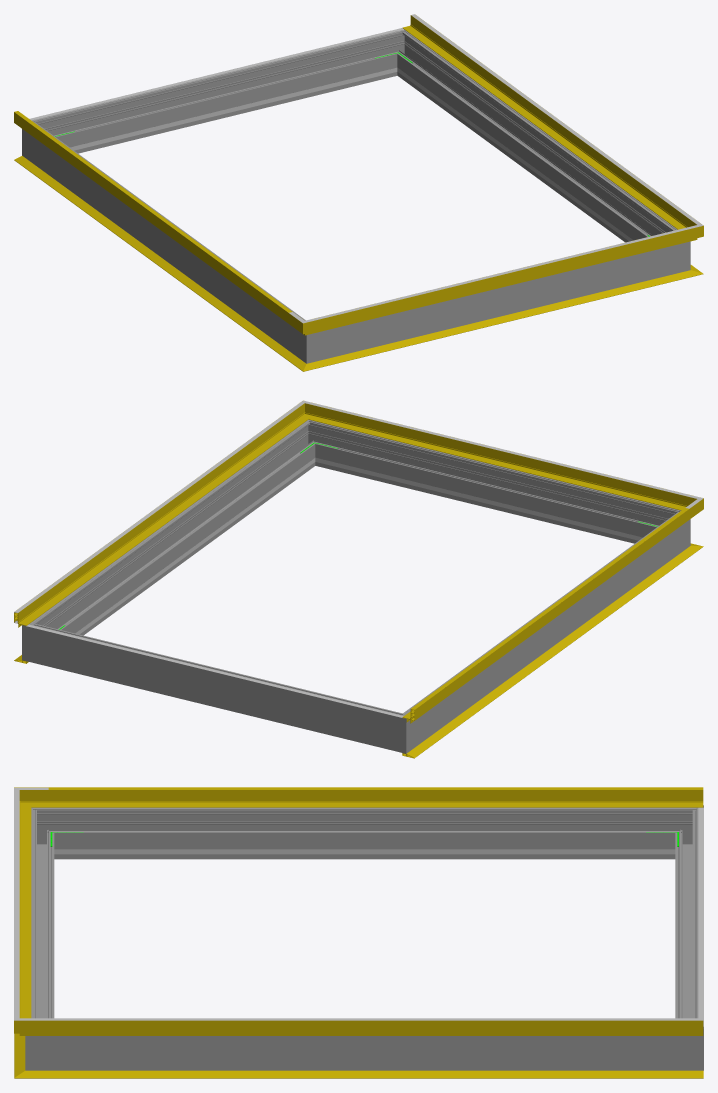
The picture shows the model from 3 angles, top to bottom: view 1: azimuth 30°, elevation 25°; view 2: azimuth 150°, elevation 25°; view 3: azimuth 270°, elevation 25°; orthographic projection. The views are drawn at different scales.
Visible parts, largest first — view 1: 3DGeom-276, 3DGeom-297, 3DGeom-298, 3DGeom-268, 3DGeom-58, 3DGeom-56, 3DGeom-50, 3DGeom-38, 3DGeom-28, 3DGeom-244, 3DGeom-64, 3DGeom-71 (+7 smaller); view 2: 3DGeom-298, 3DGeom-276, 3DGeom-297, 3DGeom-268, 3DGeom-56, 3DGeom-58, 3DGeom-50, 3DGeom-38, 3DGeom-239, 3DGeom-278, 3DGeom-71, 3DGeom-64 (+6 smaller); view 3: 3DGeom-268, 3DGeom-297, 3DGeom-50, 3DGeom-58, 3DGeom-30, 3DGeom-276, 3DGeom-298, 3DGeom-232, 3DGeom-56, 3DGeom-64, 3DGeom-71, 3DGeom-220 (+7 smaller).
Boxes of the visible parts, <box> form: 3DGeom-276: <box>49,35,393,153</box>; 3DGeom-297: <box>400,38,671,242</box>; 3DGeom-298: <box>331,247,665,357</box>; 3DGeom-268: <box>36,129,299,352</box>; 3DGeom-58: <box>402,15,685,228</box>; 3DGeom-56: <box>325,232,678,330</box>; 3DGeom-50: <box>14,112,288,323</box>; 3DGeom-38: <box>14,156,296,360</box>; 3DGeom-28: <box>324,274,678,365</box>; 3DGeom-244: <box>79,73,373,149</box>; 3DGeom-64: <box>411,14,688,215</box>; 3DGeom-71: <box>14,111,292,312</box>; 3DGeom-298: <box>319,425,663,543</box>; 3DGeom-276: <box>47,628,385,747</box>; 3DGeom-297: <box>40,428,312,635</box>; 3DGeom-268: <box>413,519,676,742</box>; 3DGeom-56: <box>321,408,676,508</box>; 3DGeom-58: <box>14,412,300,627</box>; 3DGeom-50: <box>402,509,689,723</box>; 3DGeom-38: <box>402,553,688,758</box>; 3DGeom-239: <box>339,463,633,539</box>; 3DGeom-278: <box>381,706,420,753</box>; 3DGeom-71: <box>411,508,688,710</box>; 3DGeom-64: <box>14,411,292,612</box>; 3DGeom-268: <box>60,807,669,859</box>; 3DGeom-297: <box>60,1036,669,1070</box>; 3DGeom-50: <box>48,787,703,807</box>; 3DGeom-58: <box>48,1020,703,1035</box>; 3DGeom-30: <box>49,1070,703,1078</box>; 3DGeom-276: <box>675,820,698,1018</box>; 3DGeom-298: <box>31,820,54,1018</box>; 3DGeom-232: <box>87,849,641,854</box>; 3DGeom-56: <box>19,813,31,1018</box>; 3DGeom-64: <box>48,1018,703,1020</box>; 3DGeom-71: <box>48,787,703,789</box>; 3DGeom-220: <box>698,807,703,1026</box>.
Bounding box in the file's own units: 2.44 × 0.2831 × 3.05.
